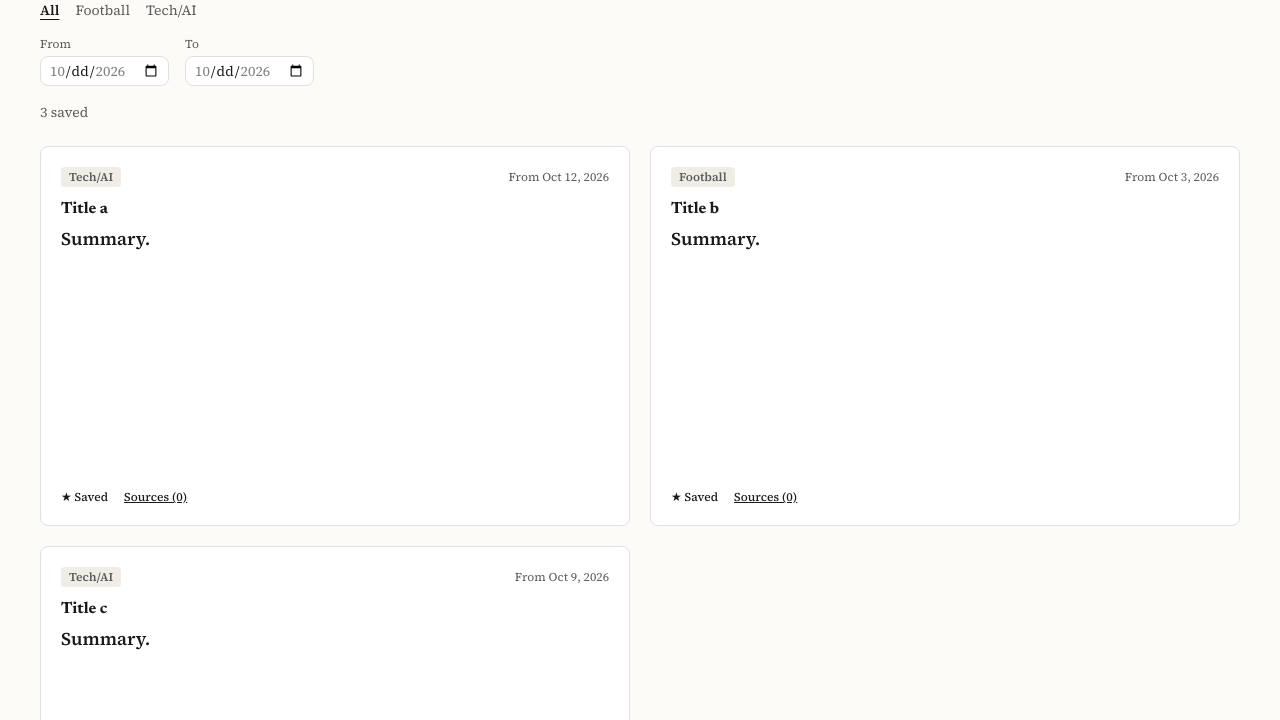
it: SavedList › keeps the dialog open with a message when the removal fails
Click the 1st button "★ Saved" at coordinates (85, 497), box [61,489,108,505]
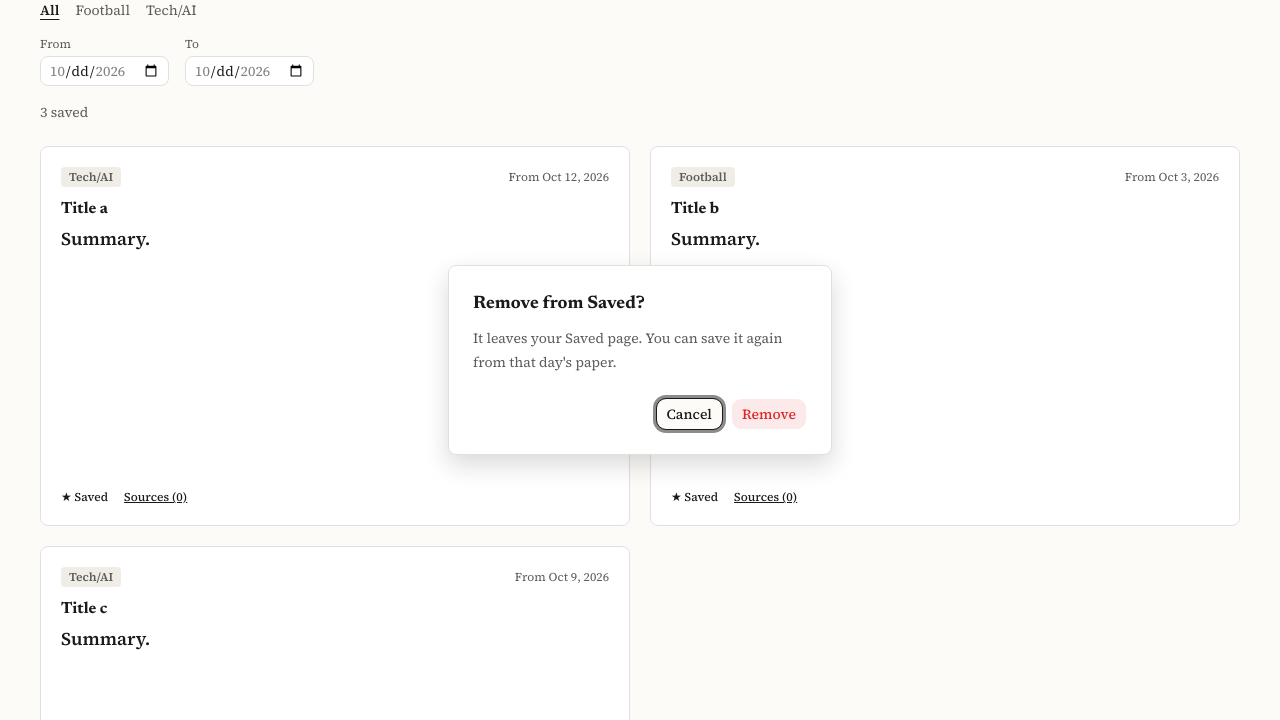
Click the button "Remove" at coordinates (769, 414), box [731,398,807,430]
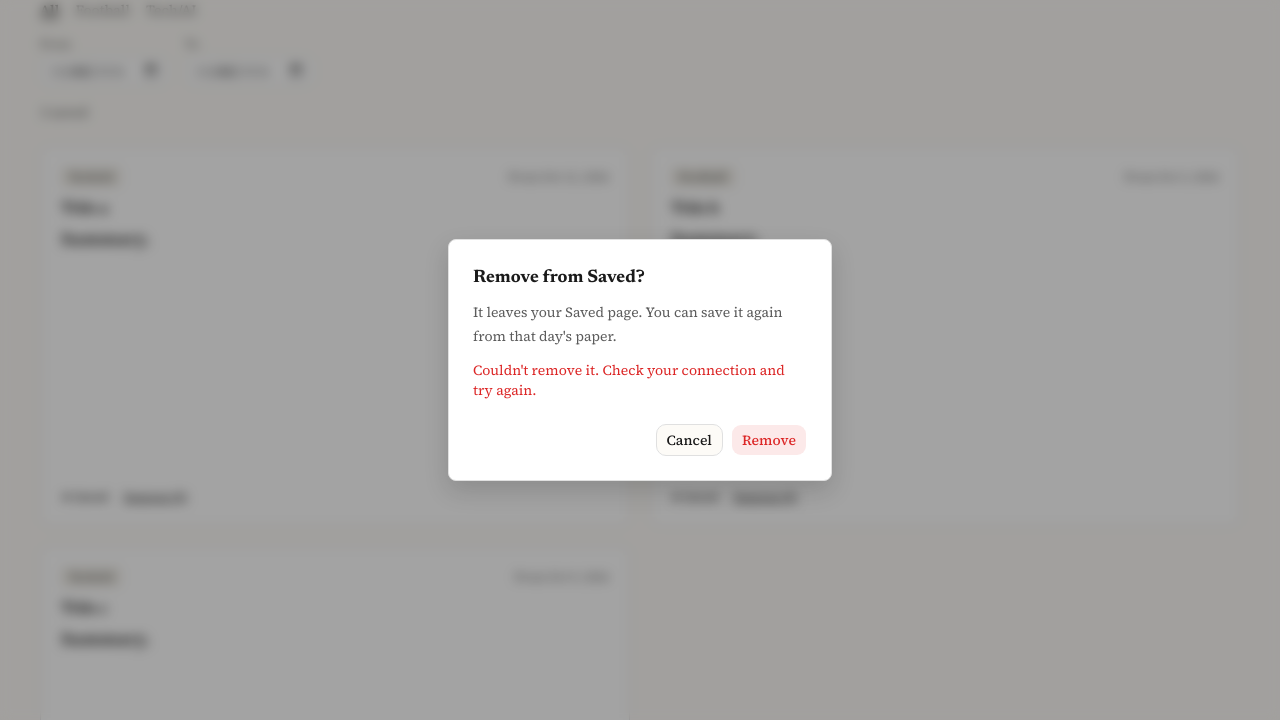
Expected: the dialog shows "Couldn't remove it.", [473,360,785,400]
